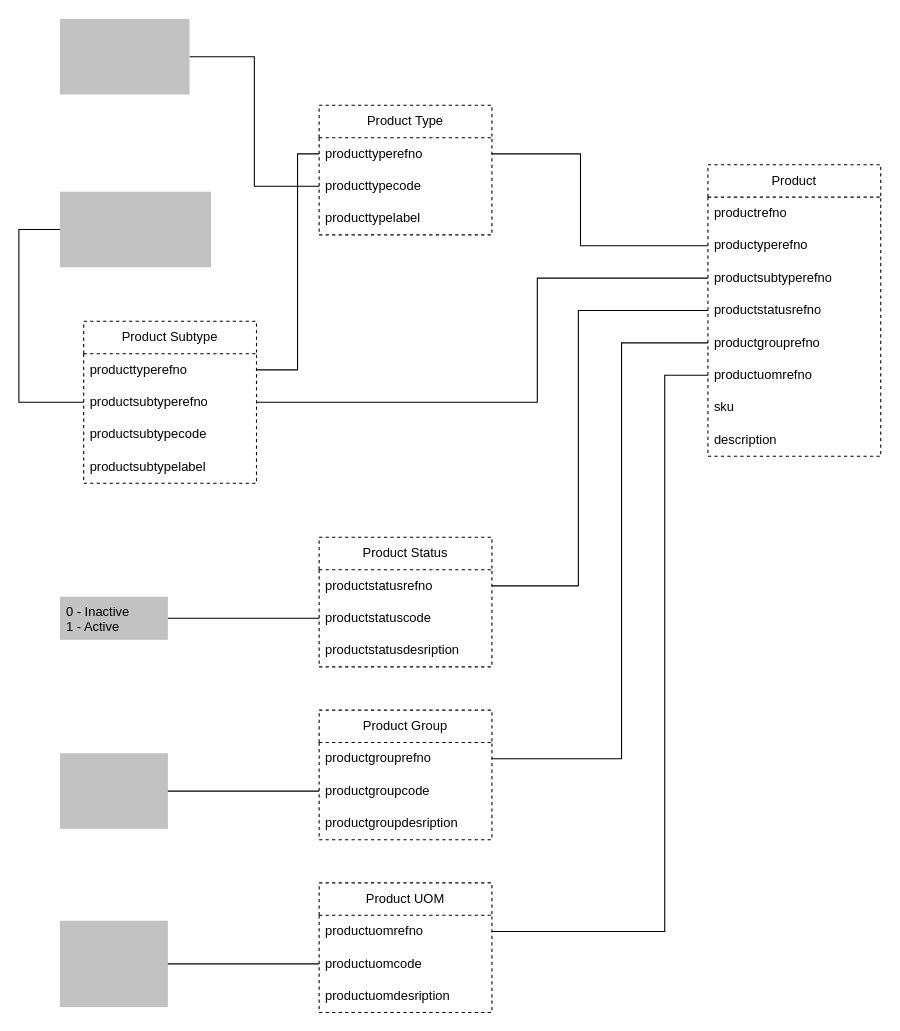
Image size: 900x1031. Some labels were removed from this diagram. The centre of each missing label's shape, as x and y in pixels:
"1 - Each 2 - Roll 3 - Kilo 4 - Meter" belongs at [113,963].
"A - Chairs B - Couches F - Metalwork G - Wood" belongs at [113,790].
"FG - Finished Good RM - Raw Material PH - Phantom" belongs at [124,56].
"MTS - Made to Stock MTO - Made to Order MRP - Tracked Comp KB - Non-tracked Comp" belongs at [135,229].
